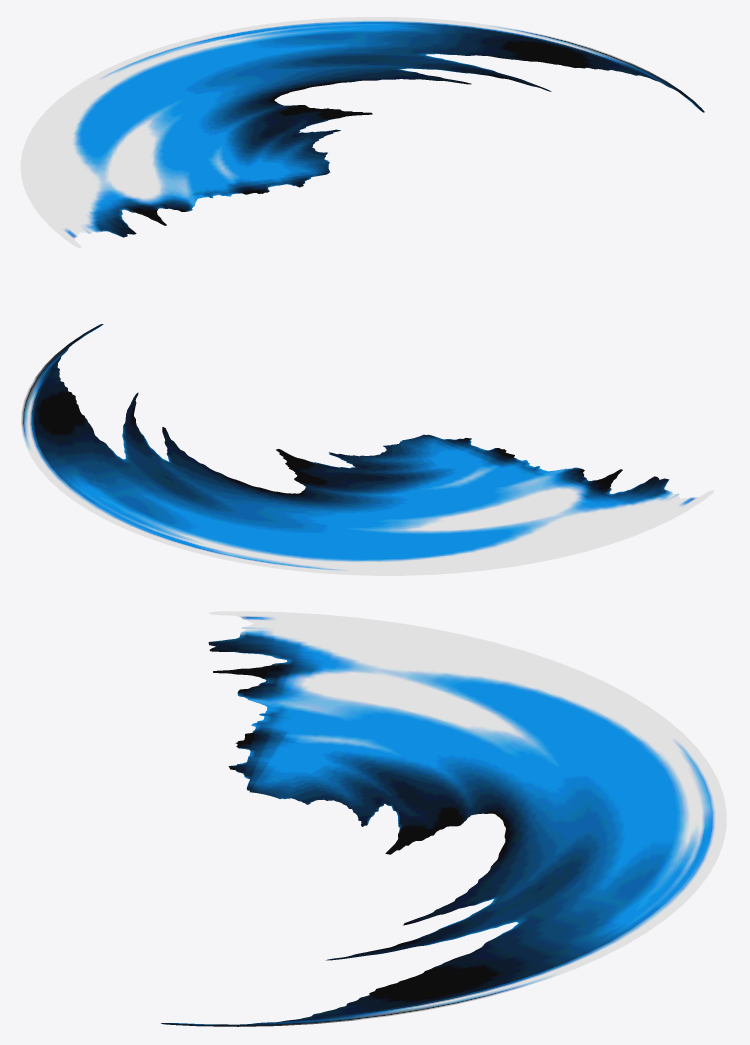
Rendered from Fbx_Dg_fsw_007.FBX.
3 views of the same model, one above another, from view 1: azimuth 30°, elevation 25°; view 2: azimuth 150°, elevation 25°; view 3: azimuth 270°, elevation 25° (orthographic). The views are drawn at different scales.
Visible parts, largest first — view 1: Fbx_Dg_fsw_007; view 2: Fbx_Dg_fsw_007; view 3: Fbx_Dg_fsw_007.
Part boxes in pixels (bbox=[...]): Fbx_Dg_fsw_007: bbox=[20, 17, 704, 247]; Fbx_Dg_fsw_007: bbox=[21, 324, 714, 575]; Fbx_Dg_fsw_007: bbox=[161, 611, 726, 1026].
Bounding box in the file's own units: 16399 × 2.07e-10 × 11813.
